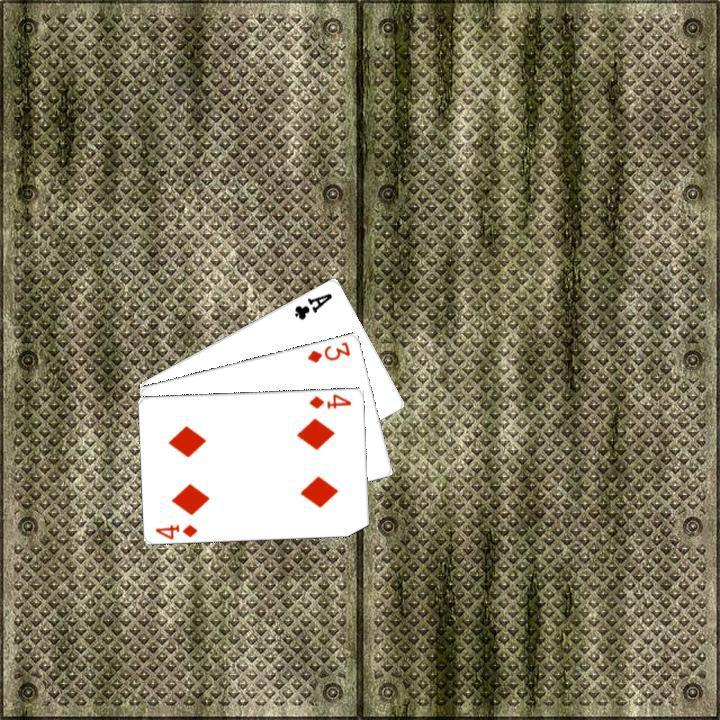3: (303, 337, 353, 364)
4: (305, 390, 354, 410), (152, 520, 200, 540)
A: (290, 288, 335, 322)
